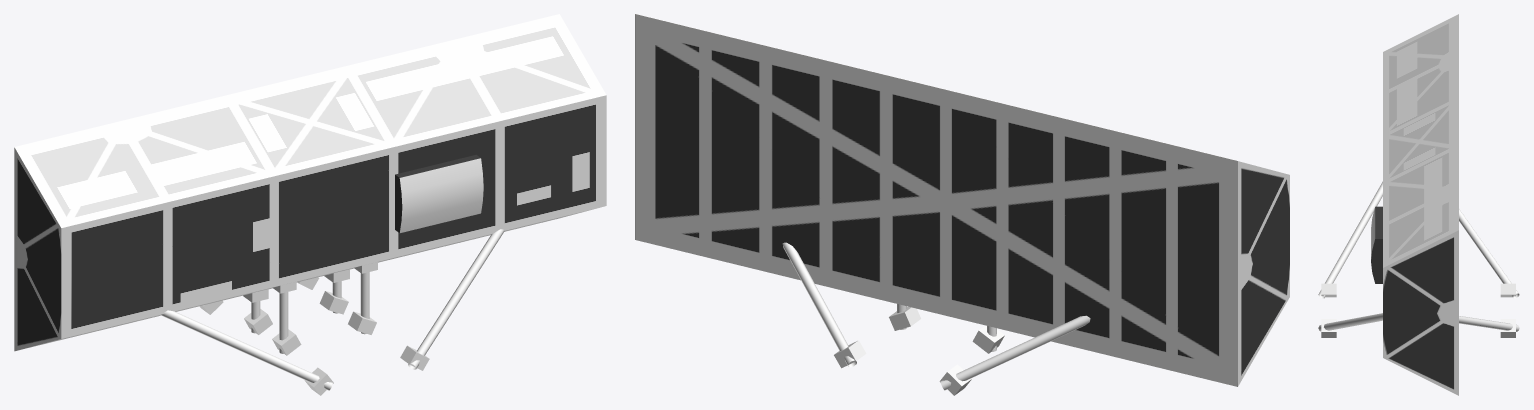
File: iss_s0.fbx
3 renders of one model, left to right at view 1: azimuth 30°, elevation 25°; view 2: azimuth 150°, elevation 25°; view 3: azimuth 270°, elevation 25°, orthographic. The views are drawn at different scales.
Parts seen in each view (by area): view 1: s0; view 2: s0; view 3: s0.
Part boxes in pixels (x1,y1,x2,y2): s0: [14, 14, 606, 395]; s0: [635, 14, 1289, 395]; s0: [1318, 14, 1519, 395].
Size of what is drawn, in the model's own units: 13.4 by 5.66 by 5.28.
